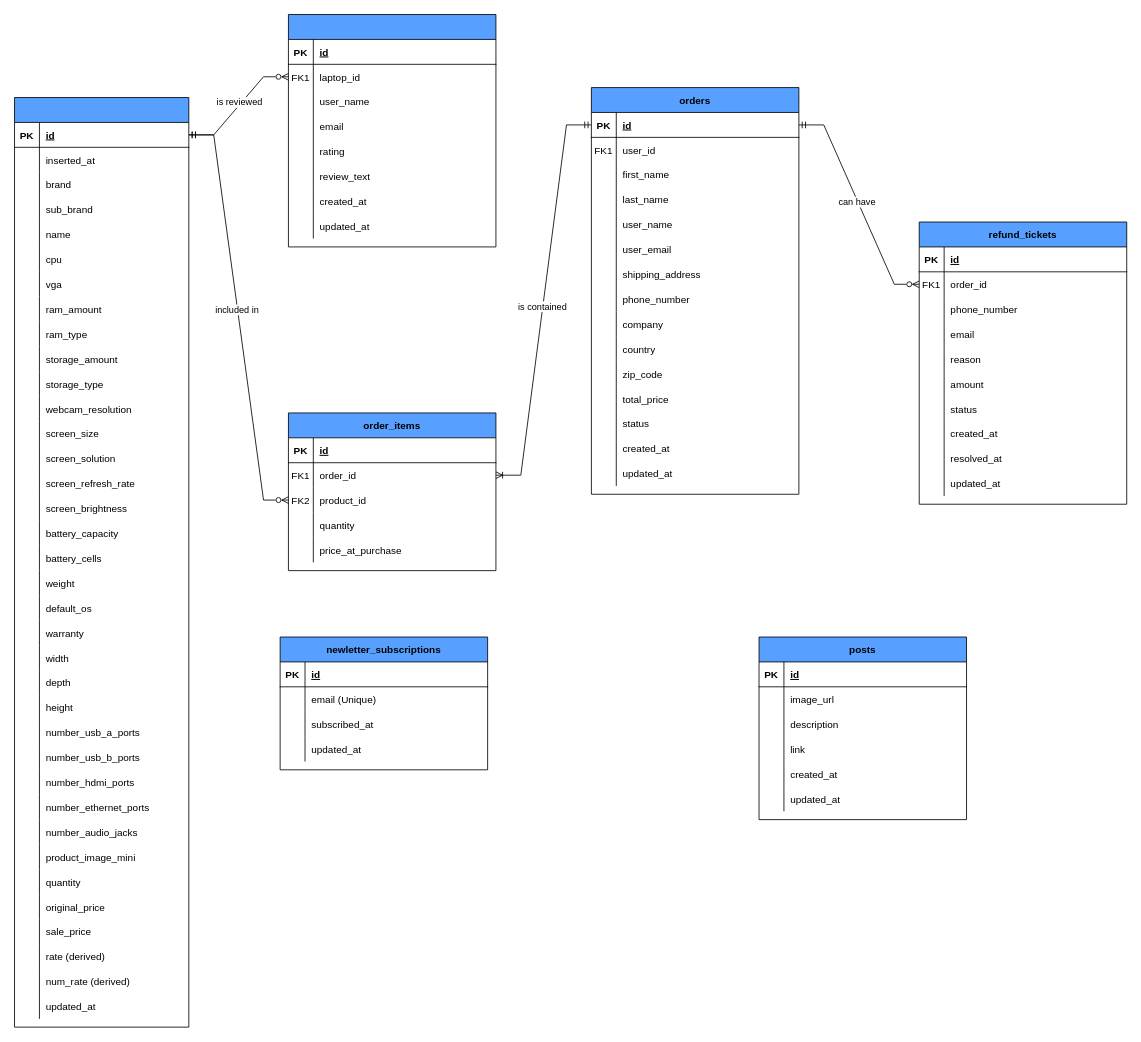
This 1141x1042 diagram has some shape labels left out. The box of each missing label's shape, as (x1, y1, x2, y2) in pixels:
Laptops: (14, 97, 189, 1027)
reviews: (288, 14, 496, 247)
